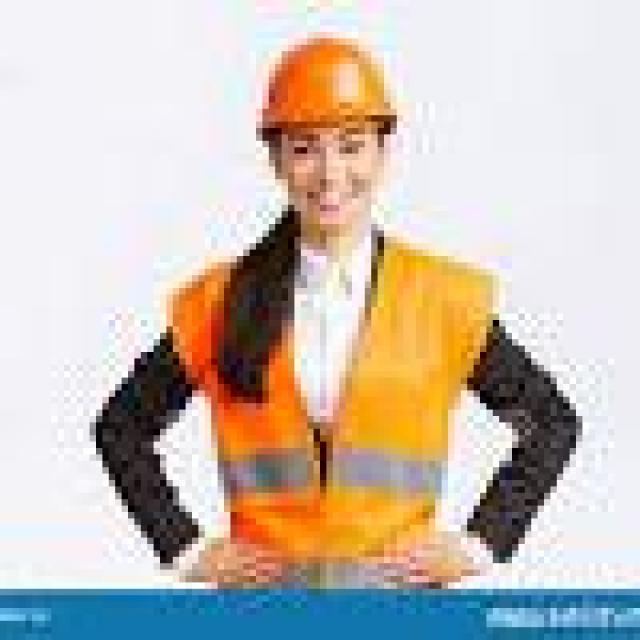Reflective-Jacket: (166, 224, 512, 595)
Safety-Helmet: (237, 19, 429, 147)
